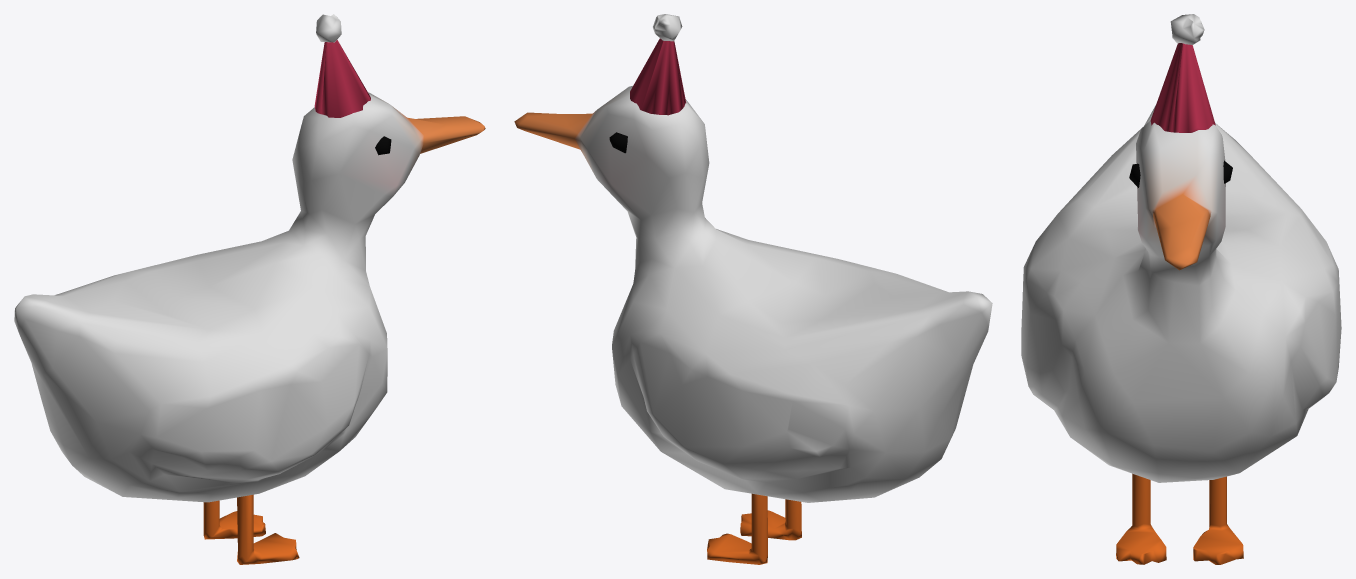
Rendered from Duck_with_Hat.FBX.
The picture shows the model from 3 angles, left to right: view 1: azimuth 30°, elevation 25°; view 2: azimuth 150°, elevation 25°; view 3: azimuth 270°, elevation 25°; orthographic projection. The views are drawn at different scales.
Parts seen in each view (by area): view 1: cute_duck_wearing_party_hat; view 2: cute_duck_wearing_party_hat; view 3: cute_duck_wearing_party_hat.
Boxes of the visible parts, left/top/right/bottom form: cute_duck_wearing_party_hat: left=14, top=14, right=485, bottom=564; cute_duck_wearing_party_hat: left=514, top=14, right=992, bottom=564; cute_duck_wearing_party_hat: left=1021, top=14, right=1341, bottom=564.
Size of what is drawn, in the model's own units: 170 by 87.37 by 175.
